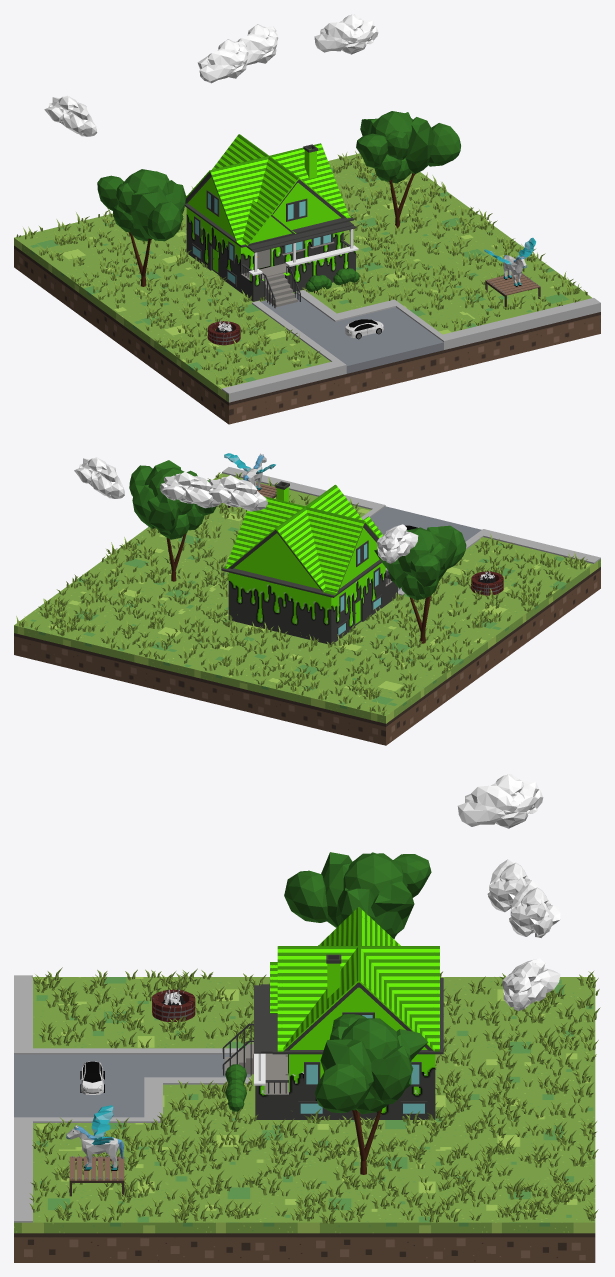
3 views of the same model, one above another, from view 1: azimuth 30°, elevation 25°; view 2: azimuth 150°, elevation 25°; view 3: azimuth 270°, elevation 25° (orthographic). The views are drawn at different scales.
Visible parts, largest first — view 1: Cube.006, Cube.754, Circle.012_Grass_0.192, Cube.007, tree, tree.001, ANIMAL_PEGASO, Cube.009, OBJRANDOM_CAMPFIRE, VEHICLES_TESLA; view 2: Cube.006, Cube.754, Circle.012_Grass_0.192, Cube.007, tree.001, tree, OBJRANDOM_CAMPFIRE, ANIMAL_PEGASO; view 3: Cube.006, Circle.012_Grass_0.192, Cube.754, tree, Cube.007, tree.001, ANIMAL_PEGASO, Cube.009, OBJRANDOM_CAMPFIRE, VEHICLES_TESLA.
Part boxes in pixels (x1,y1,x2,y2): Cube.006: (14,153,600,424); Cube.754: (185,134,358,308); Circle.012_Grass_0.192: (16,151,587,386); Cube.007: (44,14,378,136); tree: (356,111,460,228); tree.001: (97,169,186,286); ANIMAL_PEGASO: (484,237,535,286); Cube.009: (485,273,540,306); OBJRANDOM_CAMPFIRE: (207,319,240,345); VEHICLES_TESLA: (345,319,383,339); Cube.006: (14,467,600,745); Cube.754: (221,481,397,644); Circle.012_Grass_0.192: (16,472,587,715); Cube.007: (74,457,418,563); tree.001: (374,525,466,643); tree: (129,460,216,581); OBJRANDOM_CAMPFIRE: (471,570,503,595); ANIMAL_PEGASO: (224,453,275,490); Cube.006: (14,975,595,1262); Circle.012_Grass_0.192: (29,967,600,1223); Cube.754: (222,907,443,1119); tree: (314,1014,428,1174); Cube.007: (457,774,560,1011); tree.001: (284,852,431,938); ANIMAL_PEGASO: (66,1105,123,1170); Cube.009: (69,1156,124,1196); OBJRANDOM_CAMPFIRE: (152,987,195,1021); VEHICLES_TESLA: (80,1061,104,1094).
Bounding box in the file's own units: 4071 × 2277 × 4040.
Materials: 34 (4 with a texture image).
